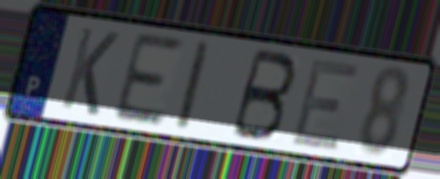8: (354, 63, 412, 162)
B: (226, 45, 300, 144)
E: (108, 29, 186, 130), (287, 56, 364, 155)
I: (173, 37, 214, 135)
K: (57, 23, 123, 120)
